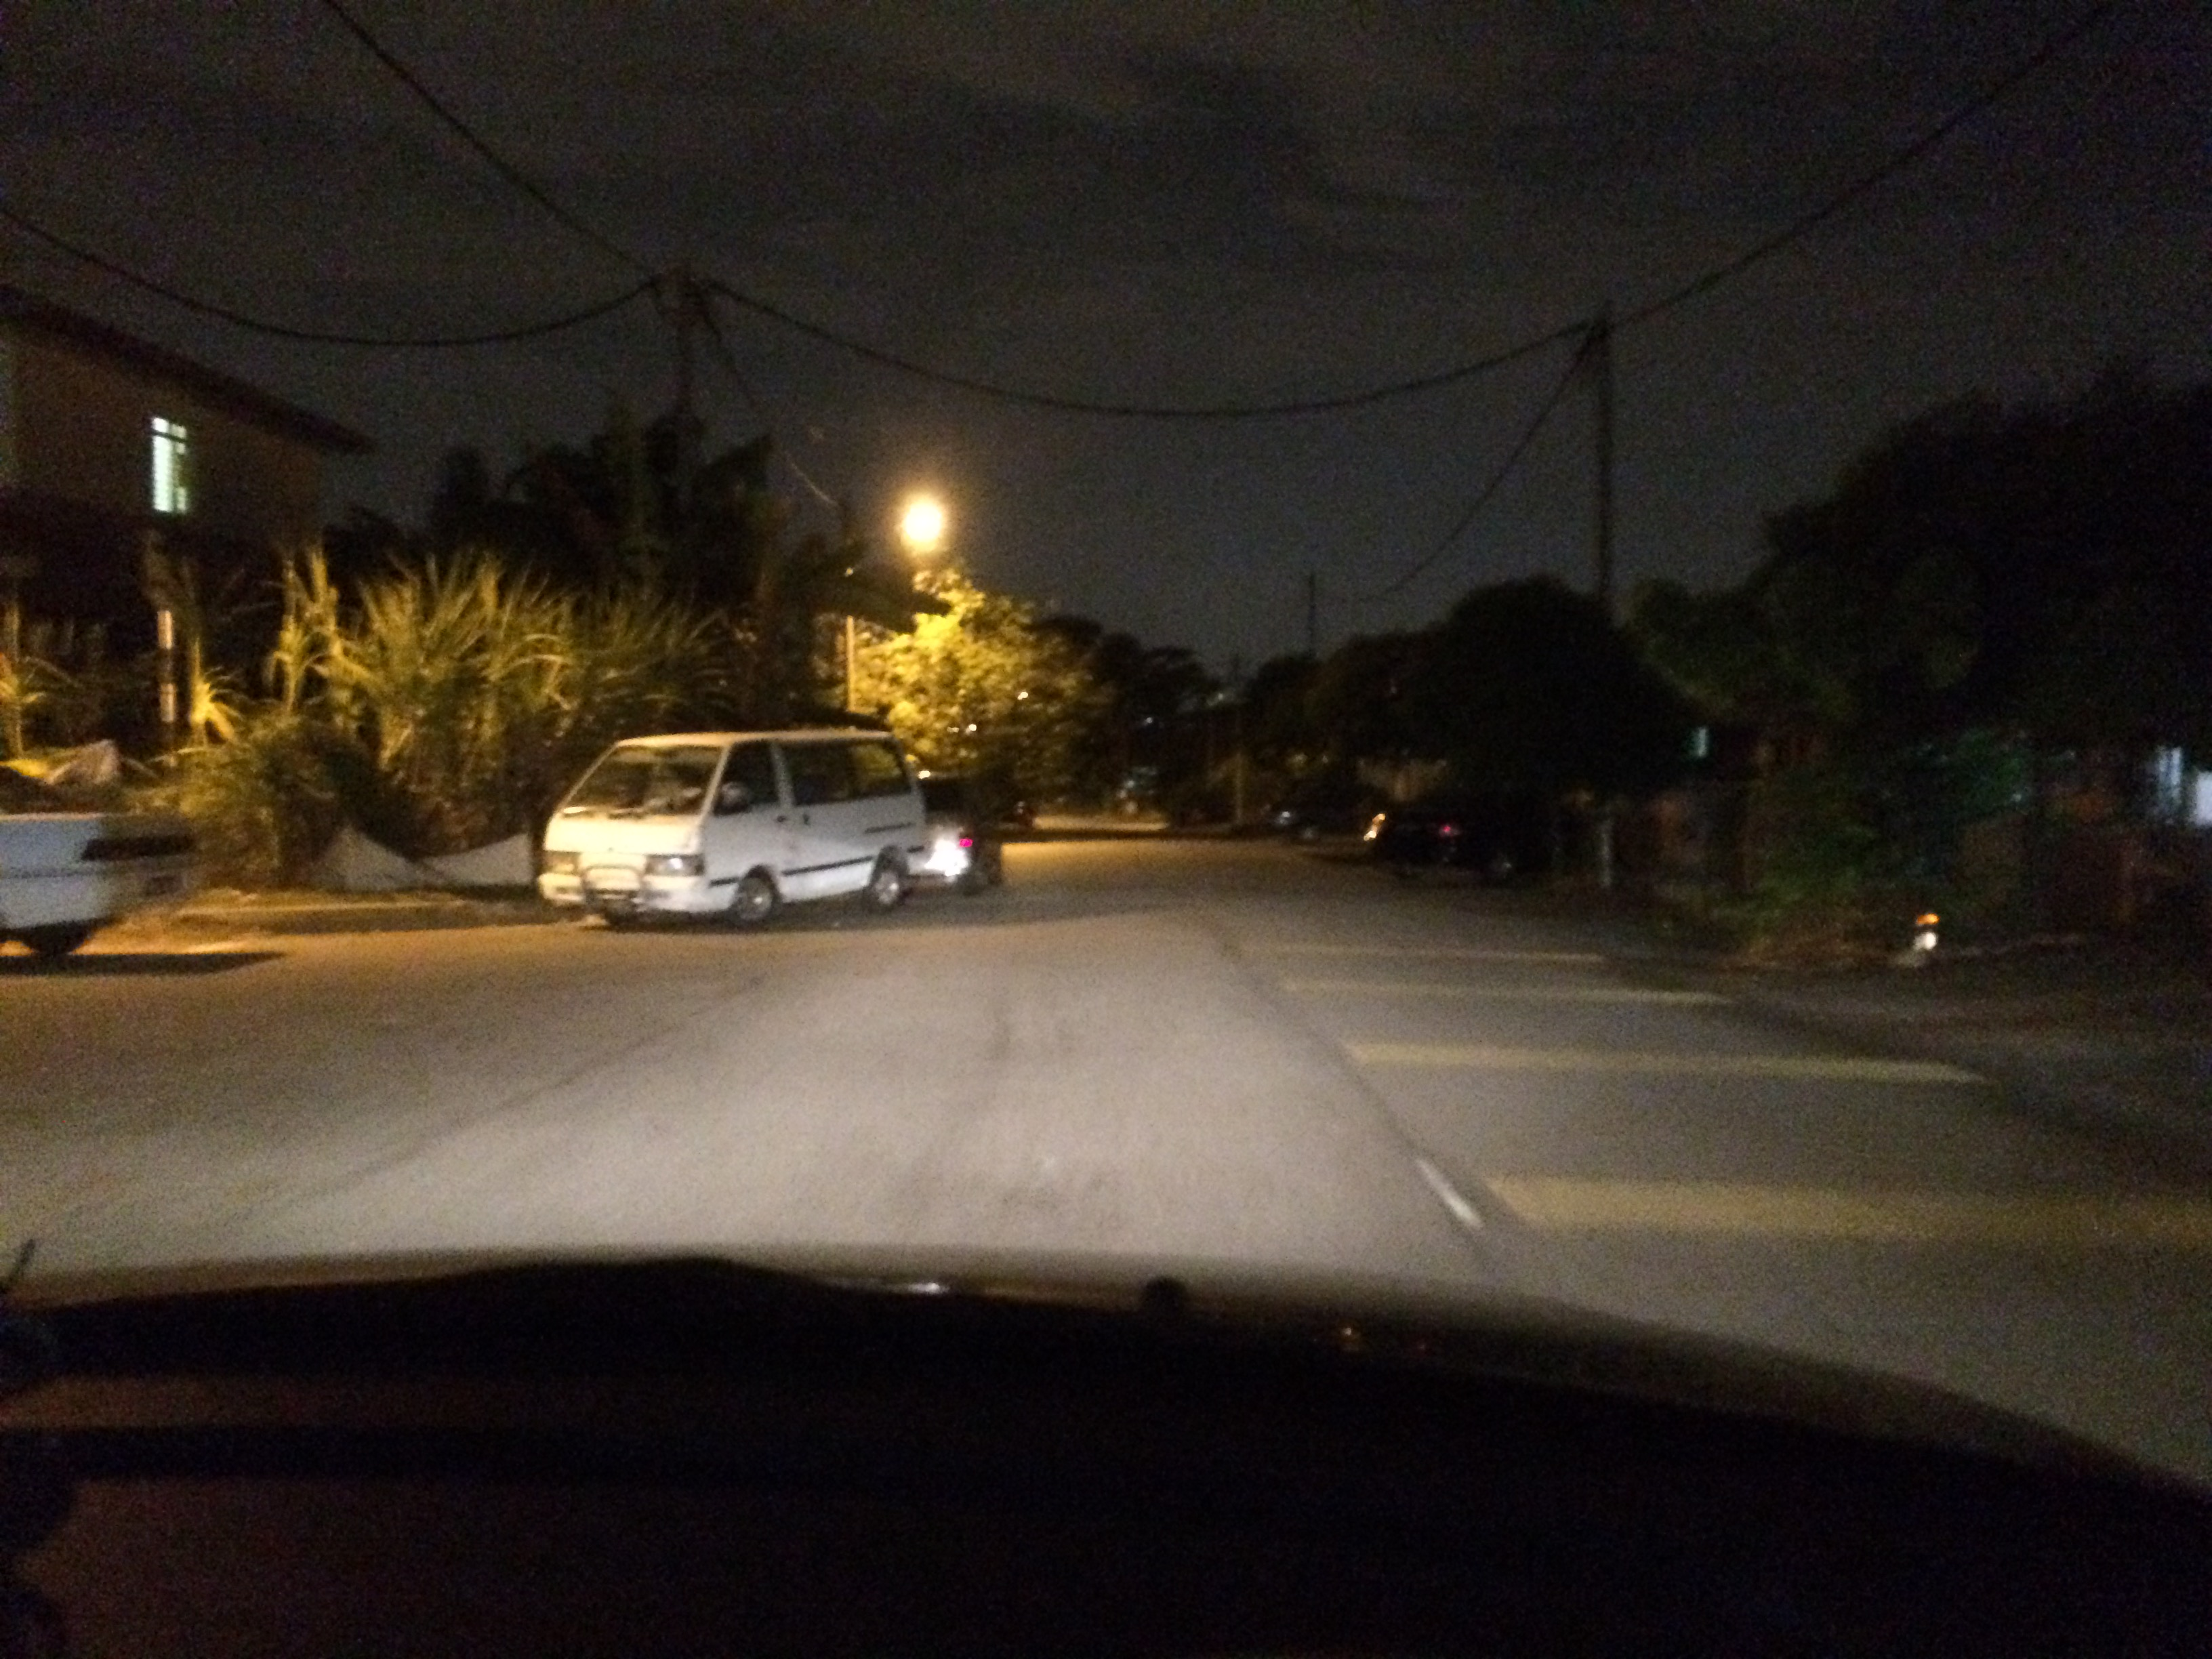car: (516, 708, 944, 948)
